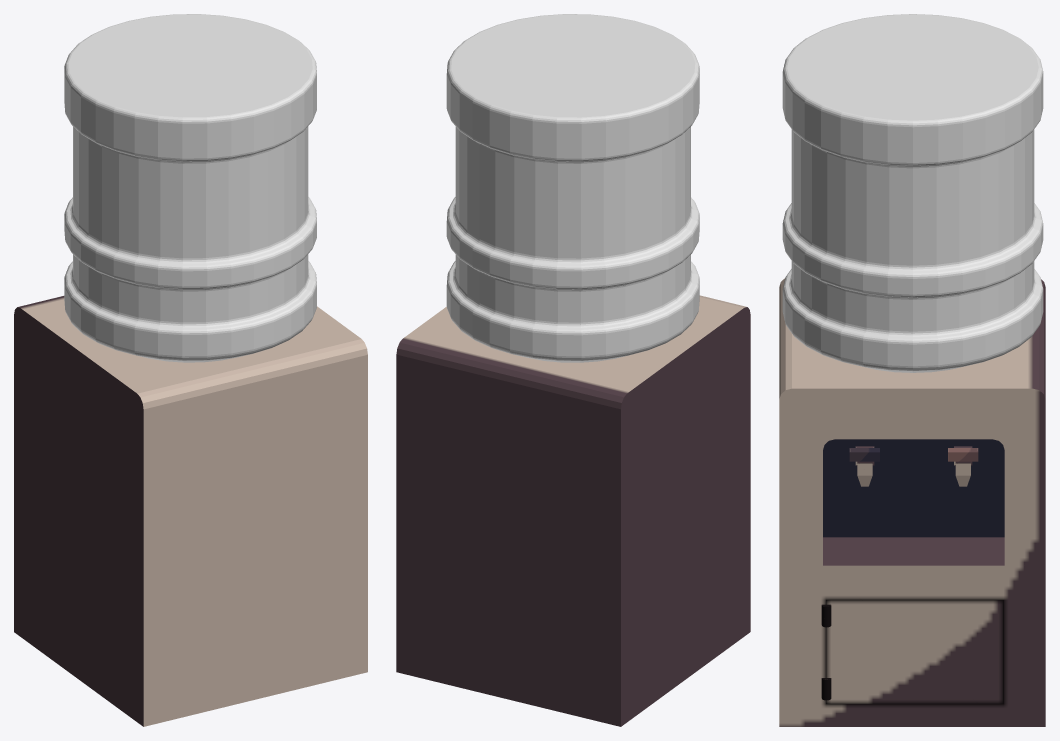
File: water cooler.fbx
3 views of the same model, side by side, from view 1: azimuth 30°, elevation 25°; view 2: azimuth 150°, elevation 25°; view 3: azimuth 270°, elevation 25° (orthographic). The views are drawn at different scales.
Parts seen in each view (by area): view 1: water, Cylinder; view 2: water, Cylinder; view 3: water, Cylinder, Cube.003.
Boxes of the visible parts, x1=… form: water: x1=14, y1=296, x2=367, y2=726; Cylinder: x1=64, y1=14, x2=316, y2=362; water: x1=396, y1=295, x2=750, y2=726; Cylinder: x1=446, y1=14, x2=699, y2=362; water: x1=779, y1=278, x2=1045, y2=726; Cylinder: x1=782, y1=14, x2=1043, y2=372; Cube.003: x1=821, y1=446, x2=978, y2=700.
Size of the model in its own units: 102 by 250 by 100.
2 materials, 2 textured.
